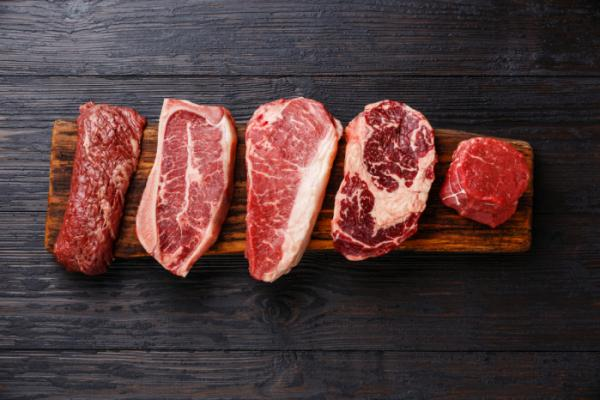beef: (127, 57, 224, 179), (310, 56, 412, 172), (229, 58, 321, 183), (47, 59, 133, 176), (413, 84, 499, 144)
